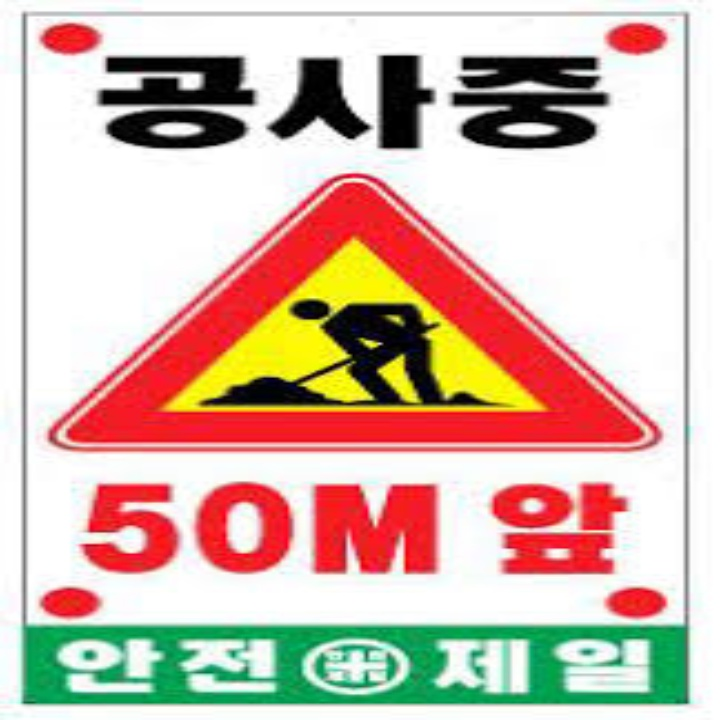const: (194, 271, 510, 426)
